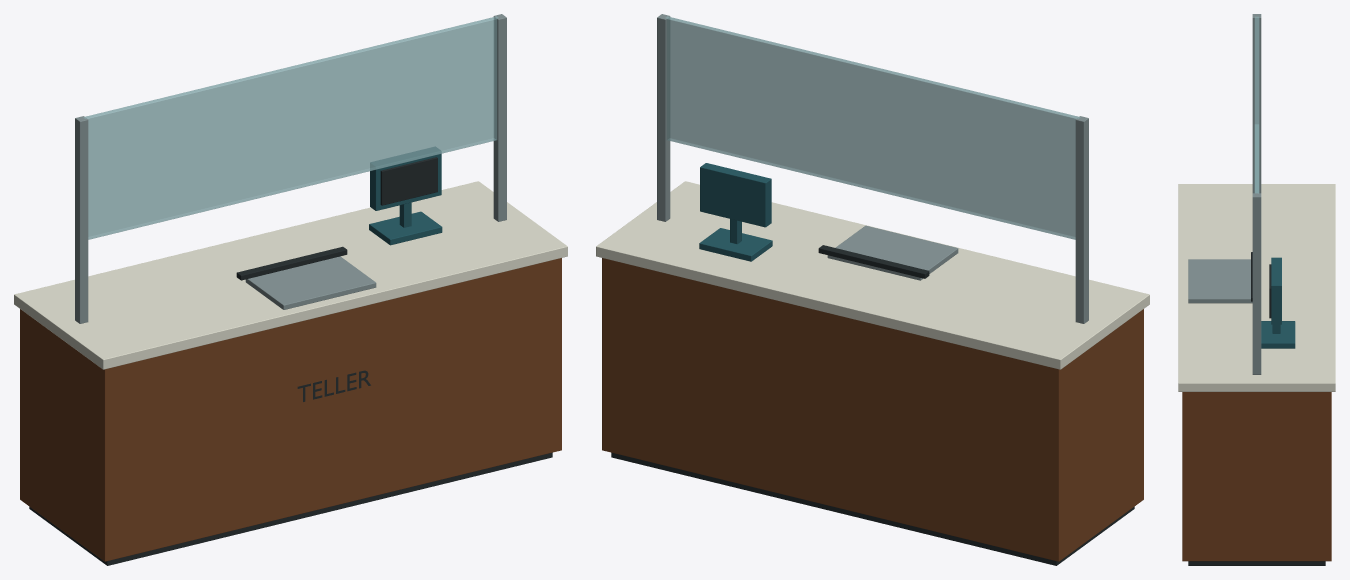
The model's file is bank-teller-counter.glb.
3 views of the same model, side by side, from view 1: azimuth 30°, elevation 25°; view 2: azimuth 150°, elevation 25°; view 3: azimuth 270°, elevation 25° (orthographic). The views are drawn at different scales.
Parts seen in each view (by area): view 1: Counter_Body, Security_Glazing, Worktop, Transaction_Tray, Screen_Post, Screen_Post.001, Counter_Base, Screen, Screen_Housing, Terminal_Foot, Document_Slot; view 2: Counter_Body, Security_Glazing, Worktop, Screen_Housing, Transaction_Tray, Screen_Post, Screen_Post.001, Counter_Base, Terminal_Foot, Document_Slot; view 3: Worktop, Counter_Body, Transaction_Tray, Screen_Post.001, Screen_Post, Security_Glazing, Terminal_Foot, Screen_Housing, Counter_Base.
Boxes of the visible parts, left/top/right/bottom form: Counter_Body: left=20, top=258, right=561, bottom=561; Security_Glazing: left=83, top=16, right=498, bottom=239; Worktop: left=14, top=181, right=567, bottom=369; Transaction_Tray: left=245, top=256, right=376, bottom=309; Screen_Post: left=75, top=116, right=88, bottom=323; Screen_Post.001: left=493, top=14, right=506, bottom=221; Counter_Base: left=29, top=452, right=552, bottom=565; Screen: left=380, top=157, right=437, bottom=205; Screen_Housing: left=370, top=147, right=441, bottom=210; Terminal_Foot: left=369, top=211, right=442, bottom=245; Document_Slot: left=236, top=246, right=347, bottom=280; Counter_Body: left=602, top=258, right=1143, bottom=561; Security_Glazing: left=665, top=16, right=1080, bottom=239; Worktop: left=596, top=181, right=1149, bottom=369; Screen_Housing: left=700, top=163, right=771, bottom=227; Transaction_Tray: left=827, top=225, right=958, bottom=280; Screen_Post: left=1075, top=116, right=1088, bottom=323; Screen_Post.001: left=657, top=14, right=670, bottom=221; Counter_Base: left=611, top=452, right=1134, bottom=565; Terminal_Foot: left=699, top=228, right=772, bottom=261; Document_Slot: left=818, top=245, right=929, bottom=278; Worktop: left=1178, top=184, right=1335, bottom=391; Counter_Body: left=1182, top=392, right=1331, bottom=561; Transaction_Tray: left=1188, top=259, right=1252, bottom=303; Screen_Post.001: left=1252, top=193, right=1261, bottom=374; Screen_Post: left=1252, top=14, right=1261, bottom=193; Security_Glazing: left=1254, top=16, right=1259, bottom=193; Terminal_Foot: left=1261, top=321, right=1295, bottom=348; Screen_Housing: left=1271, top=257, right=1281, bottom=324; Counter_Base: left=1188, top=561, right=1325, bottom=565.
Bounding box in the file's own units: 2.4 × 2.05 × 0.8.
